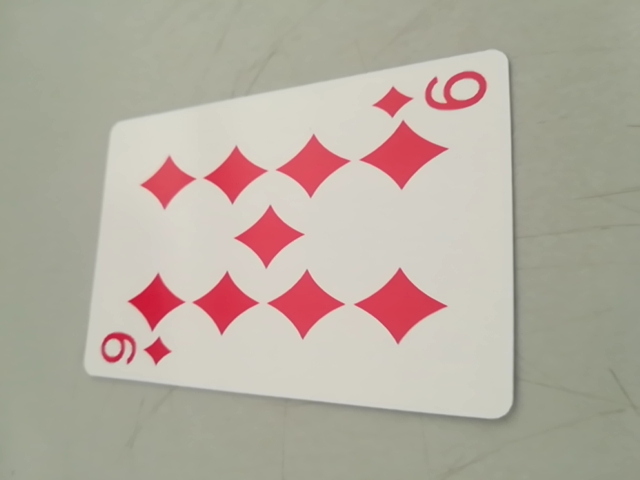fk 9: (376, 64, 496, 126), (94, 325, 179, 377)
